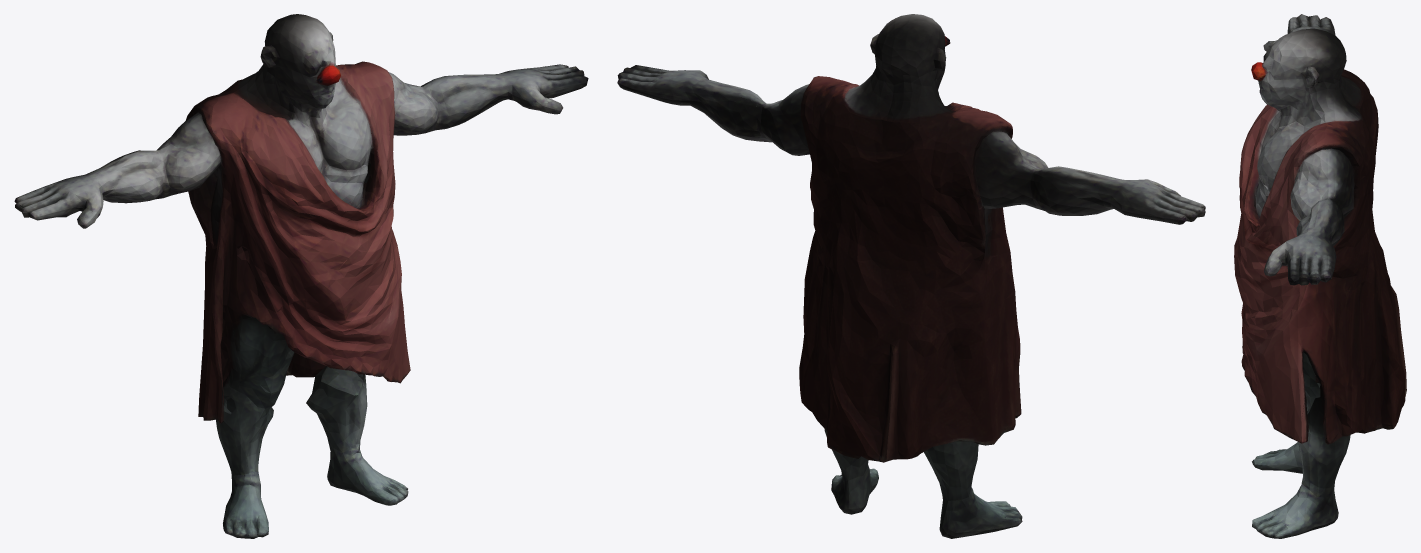
Rendered from cyclops-01.glb.
The picture shows the model from 3 angles, left to right: view 1: azimuth 30°, elevation 25°; view 2: azimuth 150°, elevation 25°; view 3: azimuth 270°, elevation 25°; orthographic projection. The views are drawn at different scales.
Parts seen in each view (by area): view 1: world; view 2: world; view 3: world.
Boxes of the visible parts, <box> form: world: <box>14,14,588,538</box>; world: <box>617,14,1205,538</box>; world: <box>1234,14,1406,538</box>.
Bounding box in the file's own units: 1 × 0.8236 × 0.2758.
1 material, 1 textured.
